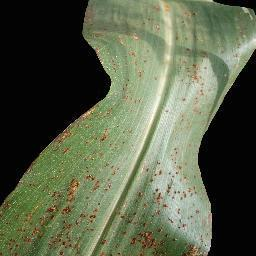Corn_Common_Rust: (0, 88, 247, 256), (52, 2, 256, 94)
